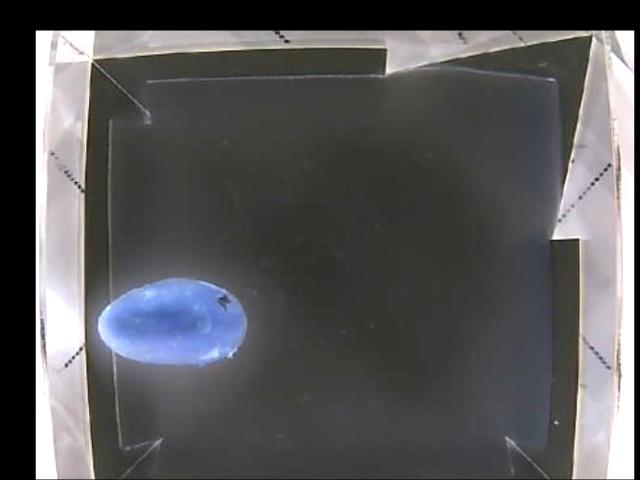Potato: (98, 280, 248, 361)
